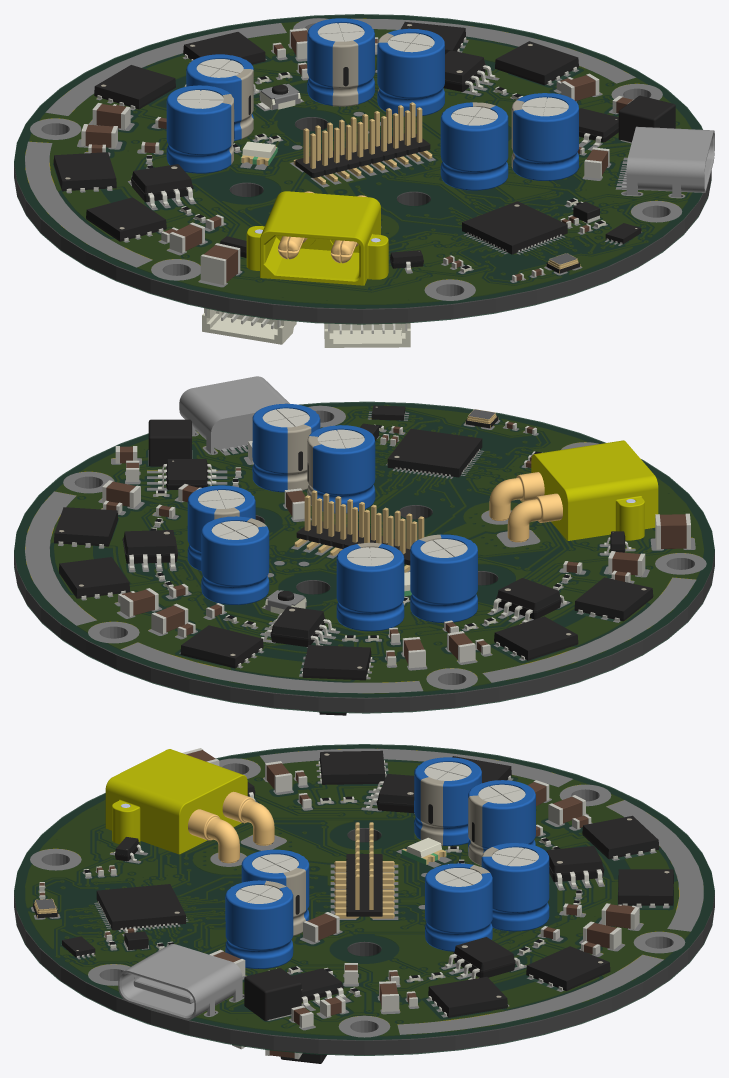
Rendered from board.glb.
3 views of the same model, one above another, from view 1: azimuth 30°, elevation 25°; view 2: azimuth 150°, elevation 25°; view 3: azimuth 270°, elevation 25° (orthographic).
Parts seen in each view (by area): view 1: servodrive_S_soldermask (×2), servodrive_S_PCB, CP_Radial_D6.3mm_P2.50mm (×6), servodrive_S_copper, servodrive_S_pad, TDSON-8-1 (×6), XT30PW-M, PinHeader_2x10_P1.27mm_Vertical_SMD, HRO_TYPE-C-31-M-12, JST_SH_SM06B-SRSS-TB_1x06-1MP_P1.00mm_Horizontal (×2), C_1206_3216Metric (×5), SOIC-8_3.9x4.9mm_P1.27mm (×2) (+7 smaller); view 2: servodrive_S_soldermask (×2), servodrive_S_PCB, CP_Radial_D6.3mm_P2.50mm (×6), servodrive_S_copper, servodrive_S_pad, TDSON-8-1 (×6), XT30PW-M, SOIC-8_3.9x4.9mm_P1.27mm (×3), PinHeader_2x10_P1.27mm_Vertical_SMD, C_1206_3216Metric (×7), HRO_TYPE-C-31-M-12, QFN-56-1EP_7x7mm_P0.4mm_EP5.6x5.6mm (+4 smaller); view 3: servodrive_S_soldermask (×2), servodrive_S_PCB, servodrive_S_copper, CP_Radial_D6.3mm_P2.50mm (×6), servodrive_S_pad, XT30PW-M, TDSON-8-1 (×6), HRO_TYPE-C-31-M-12, SOIC-8_3.9x4.9mm_P1.27mm (×3), C_1206_3216Metric (×6), PinHeader_2x10_P1.27mm_Vertical_SMD, QFN-56-1EP_7x7mm_P0.4mm_EP5.6x5.6mm (+4 smaller).
Part boxes in pixels (x1,y1,x2,y2): servodrive_S_soldermask (×2): [14, 14, 711, 324]; servodrive_S_PCB: [14, 15, 711, 323]; CP_Radial_D6.3mm_P2.50mm (×6): [166, 18, 578, 190]; servodrive_S_copper: [25, 18, 691, 304]; servodrive_S_pad: [25, 18, 685, 301]; TDSON-8-1 (×6): [53, 21, 578, 241]; XT30PW-M: [246, 191, 388, 285]; PinHeader_2x10_P1.27mm_Vertical_SMD: [293, 102, 432, 184]; HRO_TYPE-C-31-M-12: [621, 126, 714, 197]; JST_SH_SM06B-SRSS-TB_1x06-1MP_P1.00mm_Horizontal (×2): [202, 308, 410, 347]; C_1206_3216Metric (×5): [81, 73, 609, 253]; SOIC-8_3.9x4.9mm_P1.27mm (×2): [130, 50, 495, 207]; servodrive_S_soldermask (×2): [14, 401, 714, 713]; servodrive_S_PCB: [14, 403, 714, 712]; CP_Radial_D6.3mm_P2.50mm (×6): [187, 403, 477, 631]; servodrive_S_copper: [25, 405, 703, 693]; servodrive_S_pad: [25, 405, 706, 693]; TDSON-8-1 (×6): [54, 507, 653, 680]; XT30PW-M: [489, 440, 658, 542]; SOIC-8_3.9x4.9mm_P1.27mm (×3): [122, 530, 566, 646]; PinHeader_2x10_P1.27mm_Vertical_SMD: [294, 490, 424, 572]; C_1206_3216Metric (×7): [102, 480, 645, 668]; HRO_TYPE-C-31-M-12: [179, 376, 289, 453]; QFN-56-1EP_7x7mm_P0.4mm_EP5.6x5.6mm: [387, 428, 482, 477]; servodrive_S_soldermask (×2): [14, 744, 714, 1055]; servodrive_S_PCB: [14, 745, 714, 1054]; servodrive_S_copper: [25, 748, 689, 1035]; CP_Radial_D6.3mm_P2.50mm (×6): [225, 757, 549, 968]; servodrive_S_pad: [30, 748, 703, 1037]; XT30PW-M: [105, 749, 274, 863]; TDSON-8-1 (×6): [318, 750, 673, 1017]; HRO_TYPE-C-31-M-12: [118, 944, 242, 1020]; SOIC-8_3.9x4.9mm_P1.27mm (×3): [366, 774, 604, 979]; C_1206_3216Metric (×6): [265, 761, 639, 1011]; PinHeader_2x10_P1.27mm_Vertical_SMD: [334, 822, 394, 918]; QFN-56-1EP_7x7mm_P0.4mm_EP5.6x5.6mm: [96, 884, 185, 930].
Bounding box in the file's own units: 0.065 × 0.011 × 0.065.
